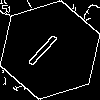I: (25, 25, 67, 69)
